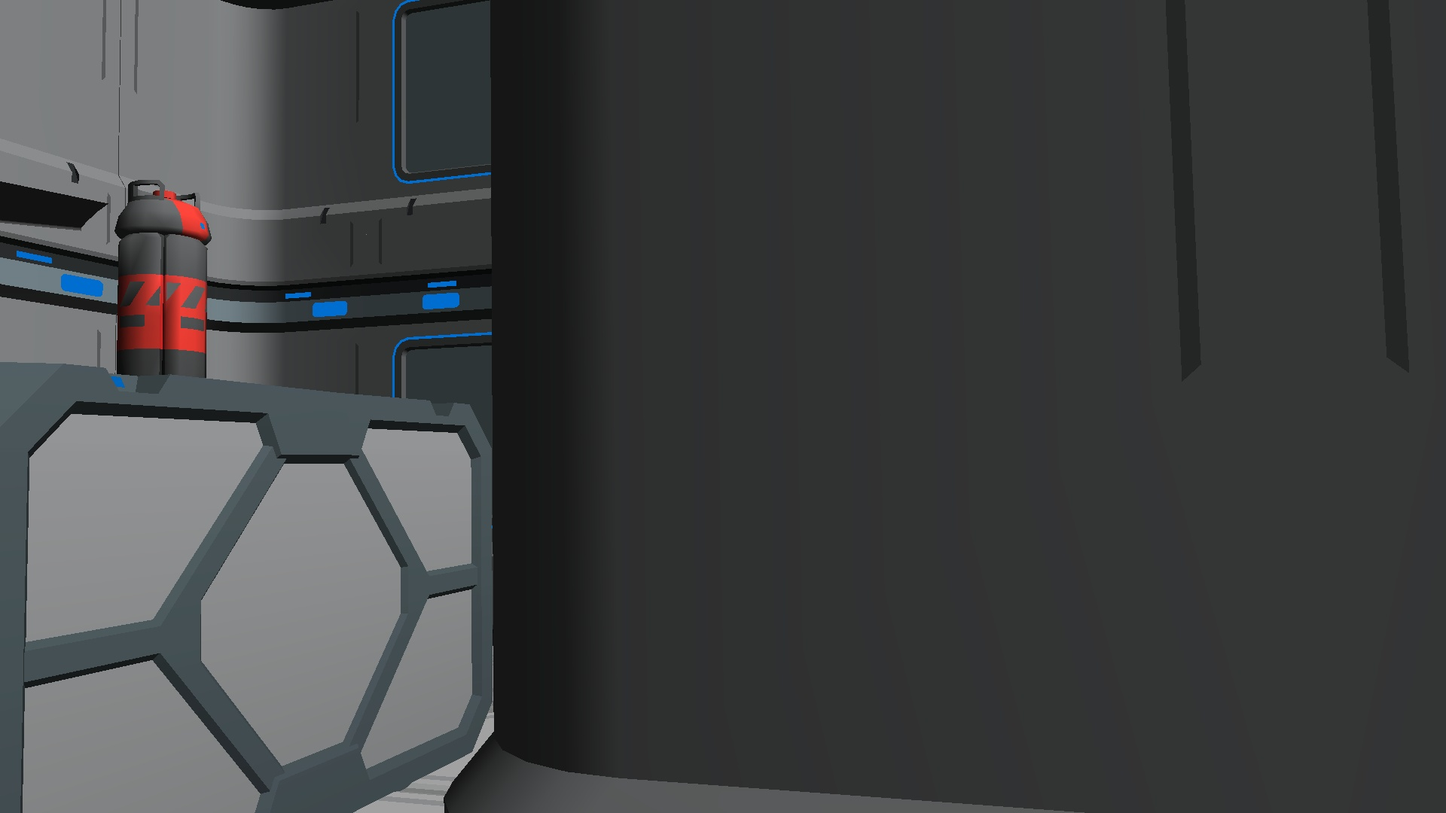red barrel: (114, 179, 211, 379)
